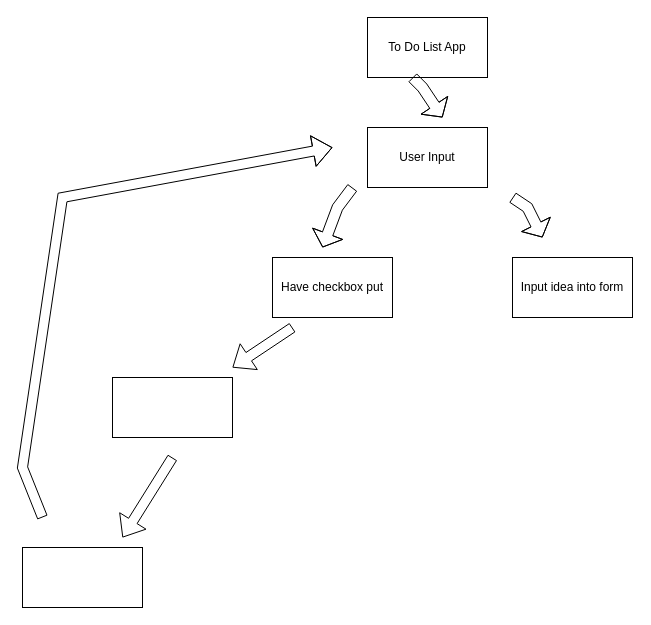
Image size: 651x625. Some labels were removed from this diagram. The shapes that lost their labels are listed below. From the top down, each one's centre as x and y in pixels, then its label:
At (172,407): "If true, allow trash icon to pop up".
At (82,577): "If clicked remove list".
